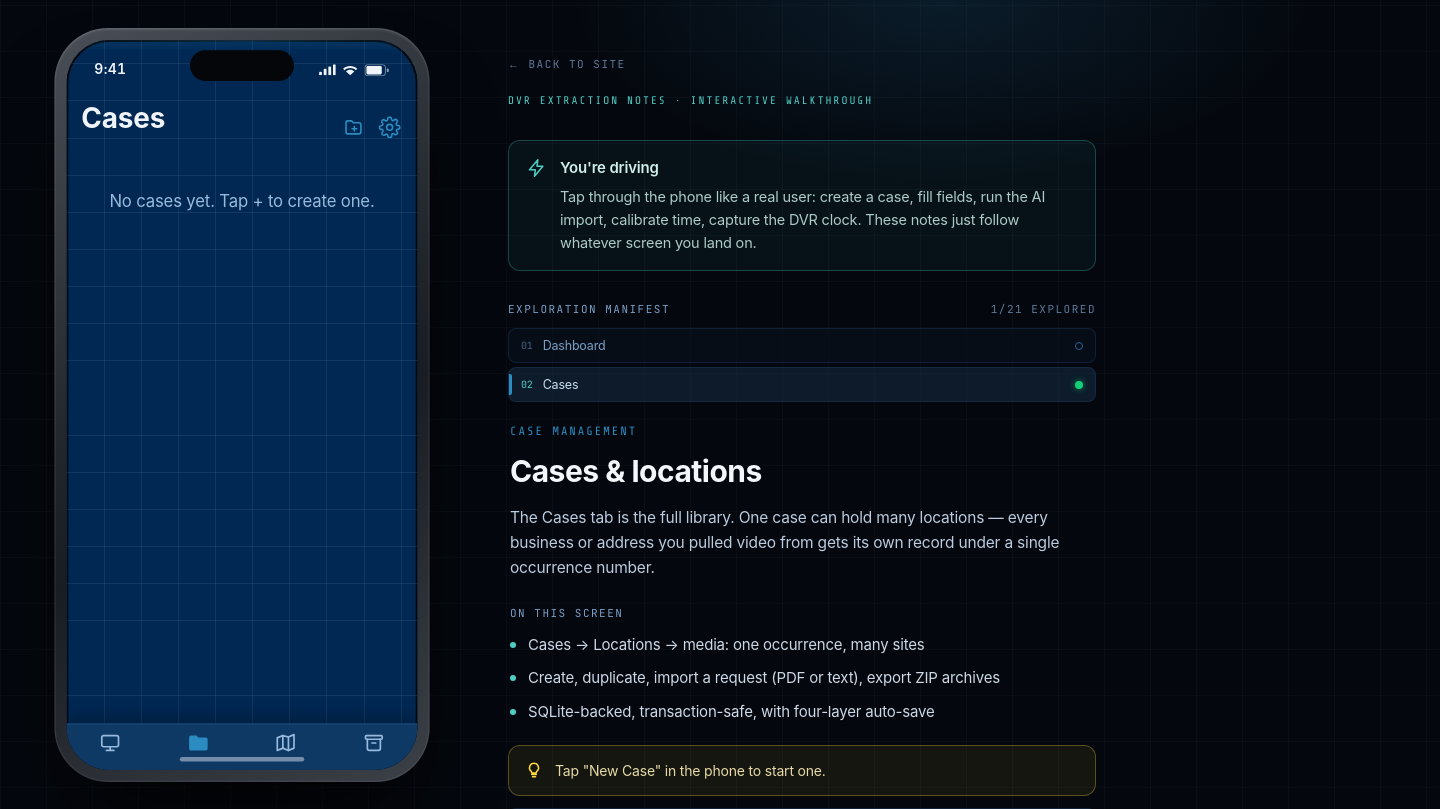
Test: DemoExperience — sandbox bridge paths › Back to site with unseen items opens the before-you-go dialog instead of navigating
Click the link "← Back to site": (567, 64) x1=508 y1=56 x2=626 y2=73
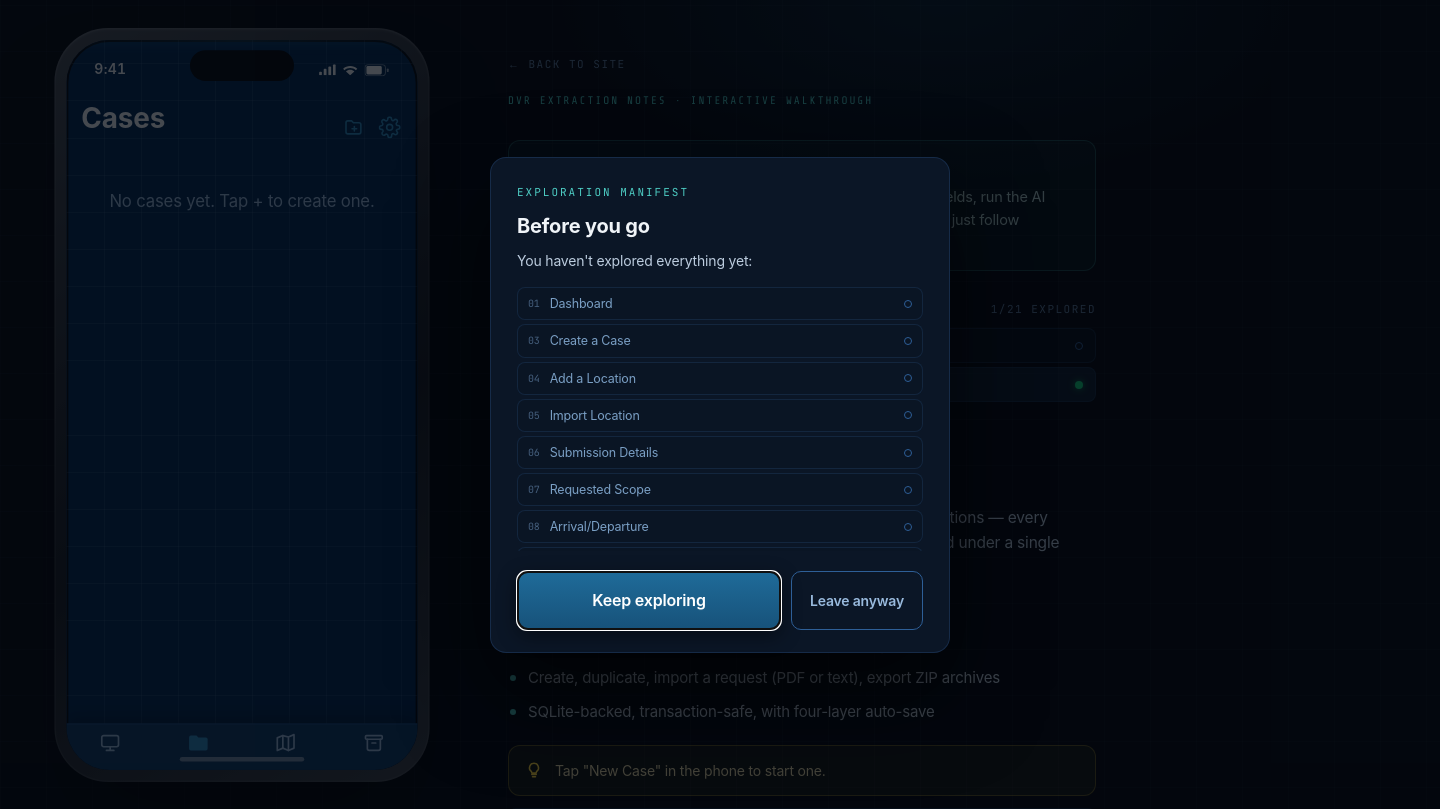
Result: the dialog is shown at x1=490 y1=157 x2=950 y2=653
Result: the text "Before you go" is shown at x1=517 y1=214 x2=650 y2=238
“Keep exploring” closes it and the demo is untouched
Click the button "Keep exploring": (649, 601) x1=517 y1=571 x2=781 y2=630
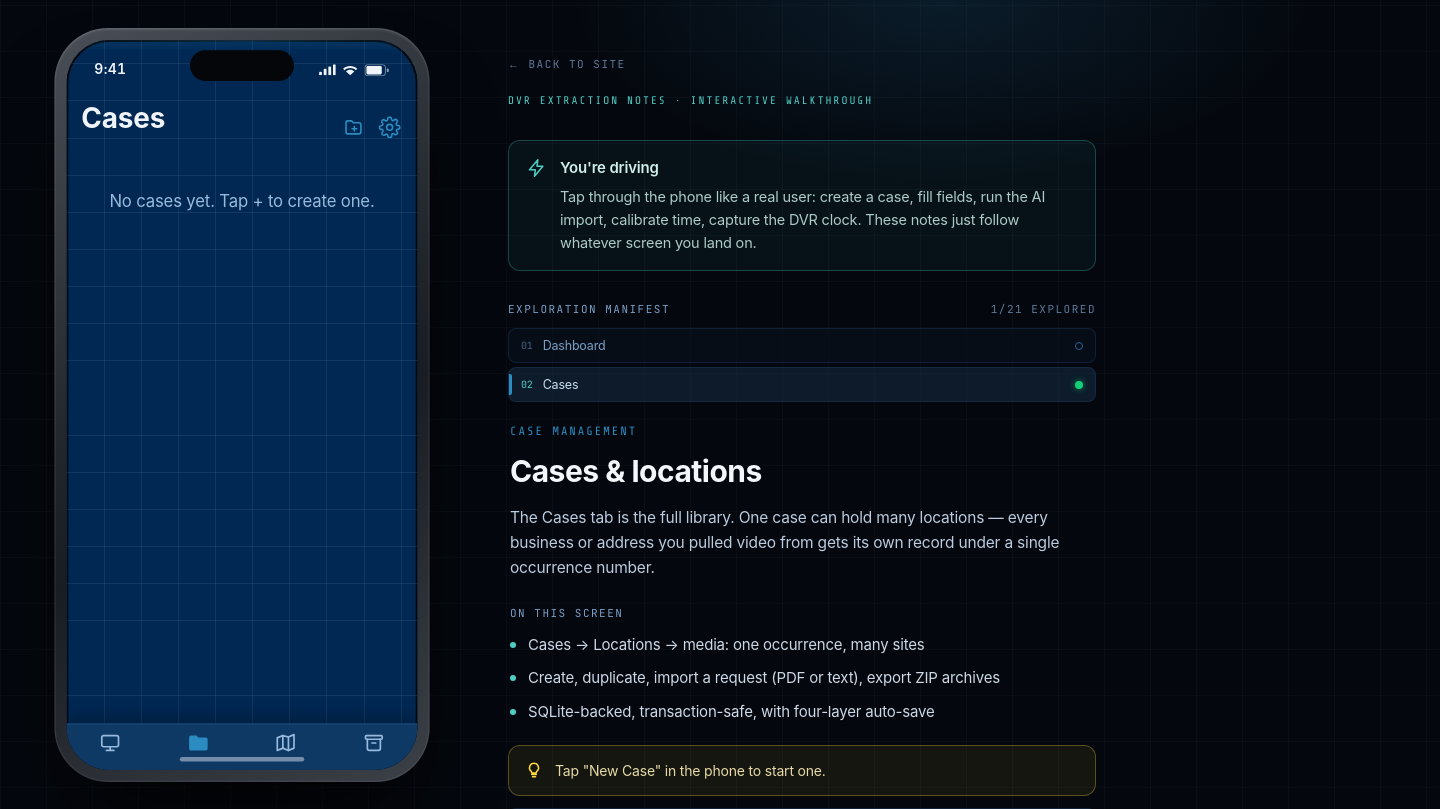
Result: the dialog is gone
